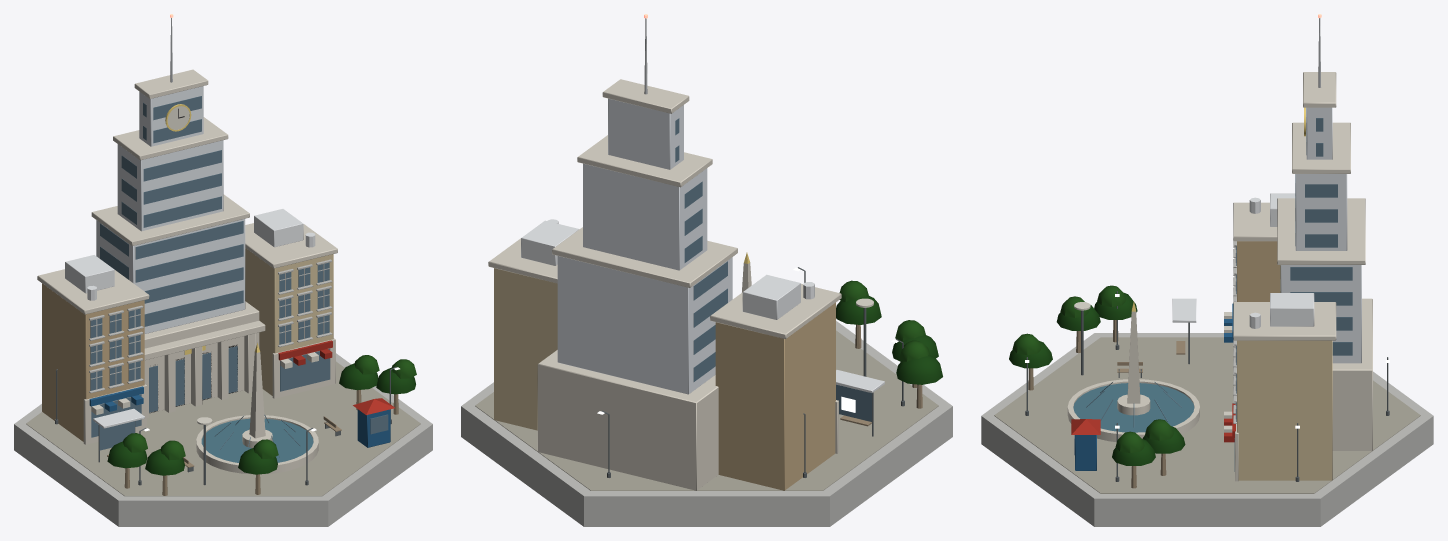
File: cityCenter.glb
The picture shows the model from 3 angles, left to right: view 1: azimuth 30°, elevation 25°; view 2: azimuth 150°, elevation 25°; view 3: azimuth 270°, elevation 25°; orthographic projection. The views are drawn at different scales.
Parts seen in each view (by area): view 1: glass, stone, pavers, wall_concrete, cladding, plaster, leaf, paint, steel_dark, wood; view 2: cladding, stone, plaster, wall_concrete, pavers, leaf, glass, steel_dark; view 3: pavers, wall_concrete, stone, plaster, cladding, glass, leaf, paint, wood, steel_dark.
Part boxes in pixels (x1,y1,x2,y2): glass: (90, 96, 388, 462); stone: (37, 69, 337, 474); pavers: (26, 361, 420, 496); wall_concrete: (14, 259, 432, 526); cladding: (65, 86, 315, 428); plaster: (42, 248, 333, 441); leaf: (107, 355, 416, 475); paint: (89, 106, 394, 447); steel_dark: (55, 367, 396, 485); wood: (107, 390, 398, 495); cladding: (521, 98, 884, 394); stone: (488, 79, 841, 490); plaster: (494, 268, 835, 490); wall_concrete: (461, 321, 952, 526); pavers: (475, 330, 938, 490); leaf: (836, 280, 942, 384); glass: (675, 118, 871, 421); steel_dark: (602, 267, 904, 477); pavers: (994, 337, 1420, 493); wall_concrete: (981, 241, 1433, 526); stone: (1067, 72, 1372, 481); plaster: (1237, 241, 1332, 480); cladding: (1172, 107, 1361, 363); glass: (1073, 108, 1352, 471); leaf: (1009, 285, 1185, 465); paint: (1071, 302, 1235, 470); wood: (1028, 320, 1185, 488); steel_dark: (1025, 291, 1389, 481).
Size of the model in its own units: 21.3 by 25.76 by 24.6.
